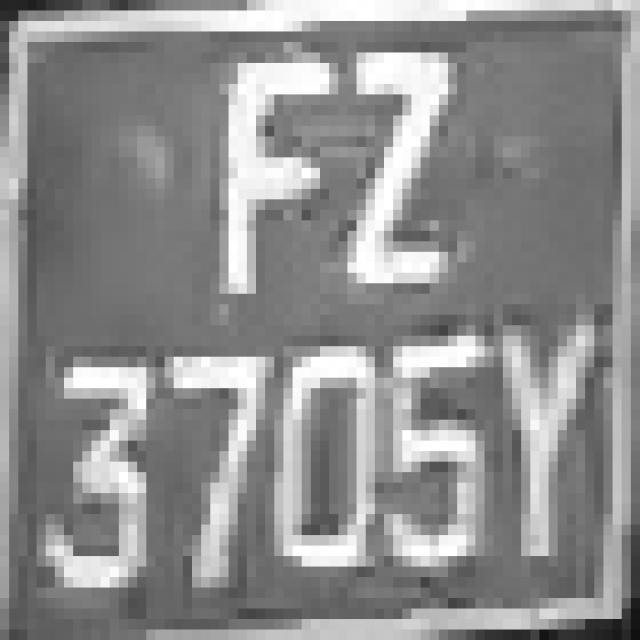0: (256, 315, 384, 598)
3: (28, 304, 156, 619)
5: (375, 304, 503, 598)
7: (146, 314, 247, 630)
F: (183, 21, 366, 294)
Y: (485, 294, 594, 588)
Z: (329, 42, 476, 294)
